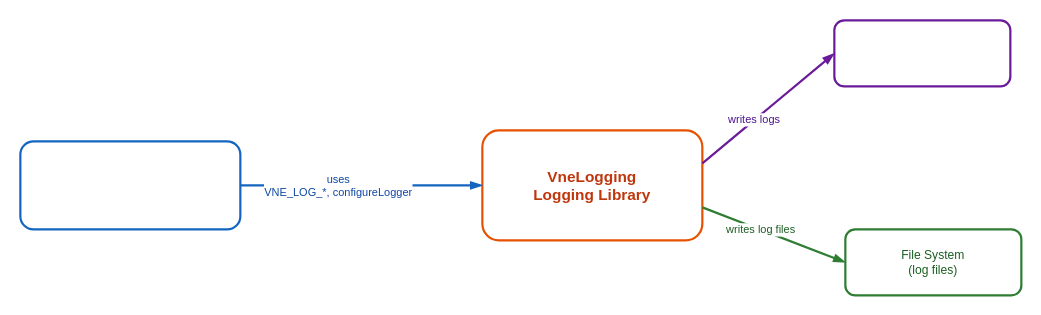
Image size: 1041x315. Some labels were removed from this diagram. The box of each missing label's shape, as (x1, y1, x2, y2) in pixels:
C++ Application (Developer / User Code): (19, 140, 241, 230)
Console (stdout/stderr): (833, 19, 1011, 87)
